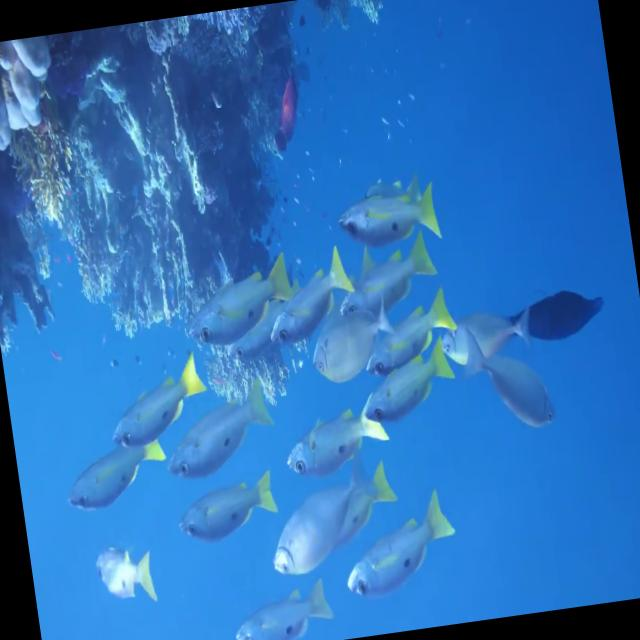fish: (262, 462, 385, 580), (334, 498, 468, 604), (157, 385, 275, 482), (330, 230, 442, 328), (102, 358, 211, 452), (356, 288, 461, 382), (188, 256, 290, 348), (261, 254, 358, 350), (356, 338, 456, 430), (62, 436, 174, 514), (304, 297, 402, 386), (281, 396, 388, 476), (334, 178, 444, 255), (170, 466, 278, 544), (471, 343, 559, 435), (435, 304, 536, 370), (231, 579, 336, 640), (91, 543, 158, 604)
